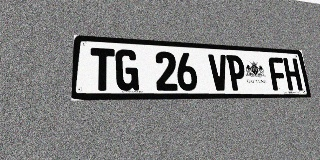2: (155, 51, 178, 91)
6: (176, 52, 198, 91)
F: (268, 57, 288, 90)
G: (115, 49, 139, 91)
H: (283, 58, 303, 90)
P: (226, 55, 247, 91)
T: (90, 48, 115, 91)
V: (208, 54, 230, 91)
